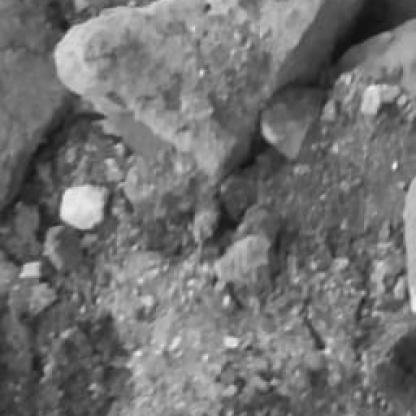cementitious_debris: (1, 100, 414, 414)
